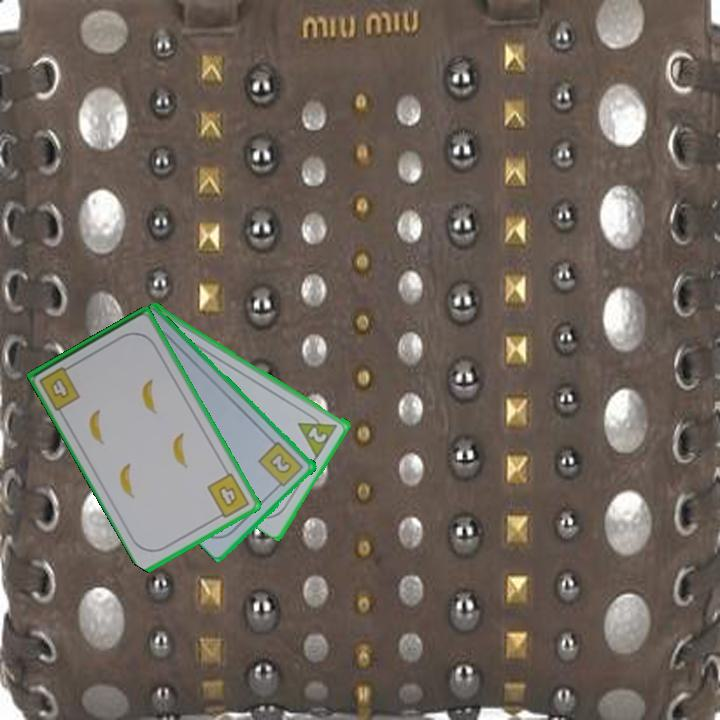2b: (255, 438, 307, 492)
2p: (305, 423, 330, 446)
4b: (203, 469, 253, 522), (36, 361, 83, 413)
